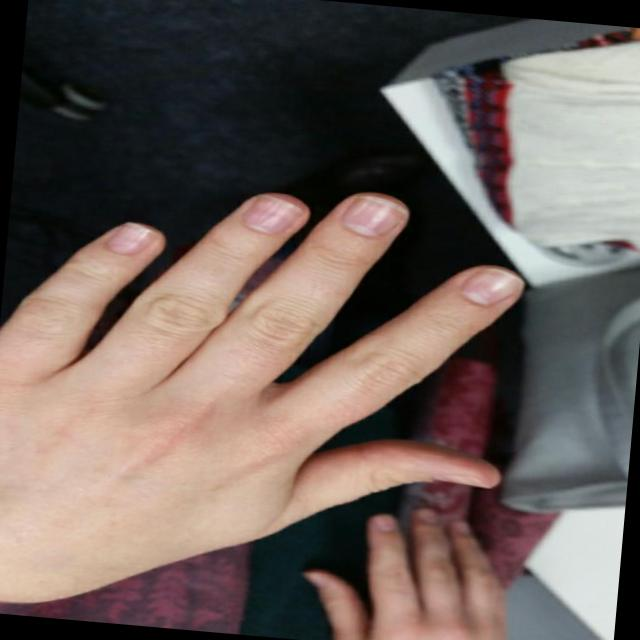Nail: (341, 194, 406, 235), (241, 192, 302, 232), (459, 266, 519, 303), (105, 220, 156, 253), (431, 473, 490, 487), (371, 513, 395, 529), (302, 572, 326, 586), (416, 507, 436, 521), (454, 520, 467, 531)
